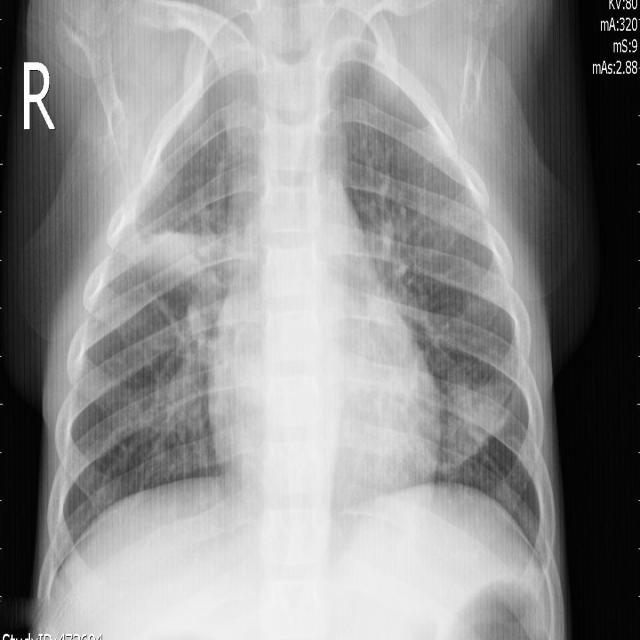low-pneumonia: (112, 201, 232, 335), (363, 155, 439, 313), (444, 362, 523, 482), (333, 39, 400, 158)
